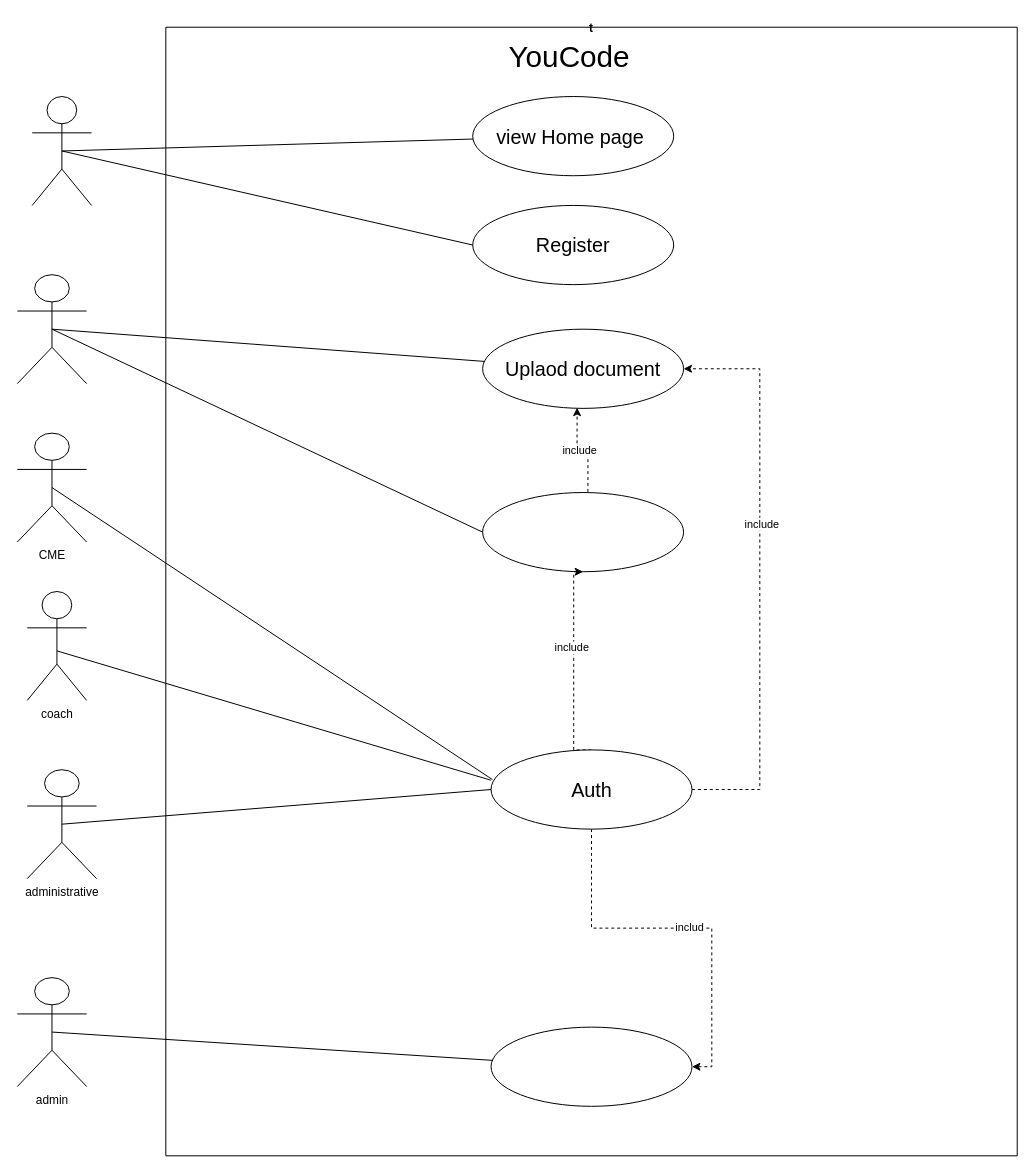
Image size: 1035x1173. Some labels were removed from this diagram. Each missing label, with the centre of its shape:
candidats: the point at 51,329
manage quiz: the point at 591,1066
Take quiz: the point at 583,532
vesiteur: the point at 61,150
